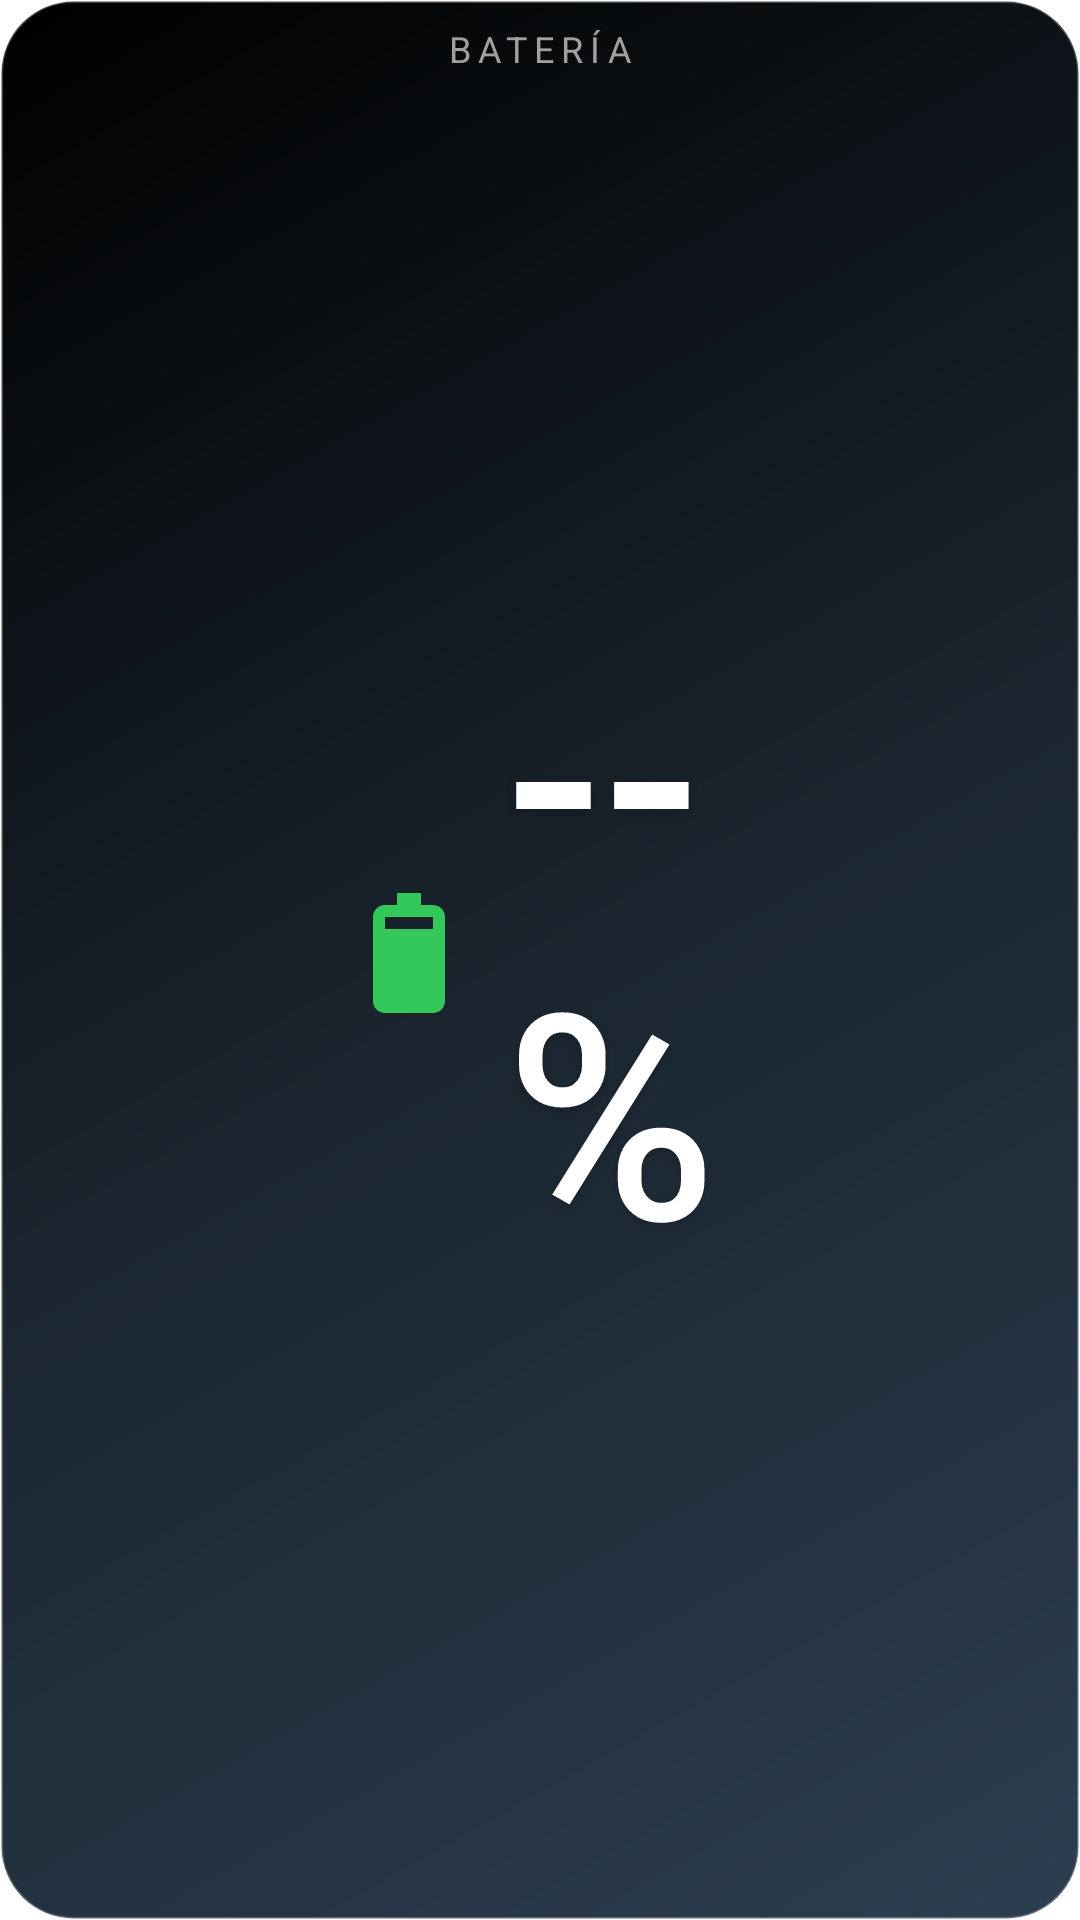

Named icons in this screenshot (1080px×1920px) and their bounding boxes, (x1, y1, x2, y2):
battery: (373, 893, 445, 1013)
